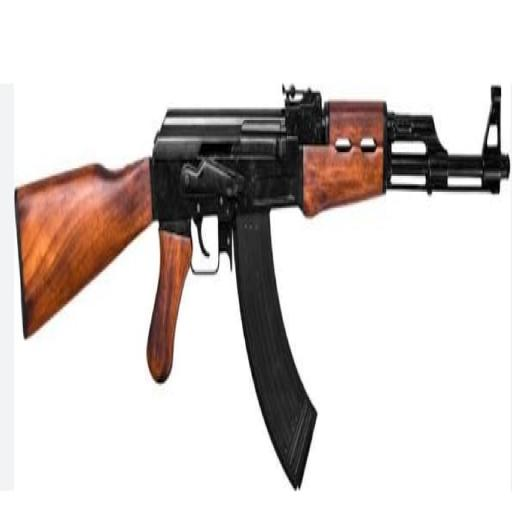Gun: (16, 86, 509, 486)
